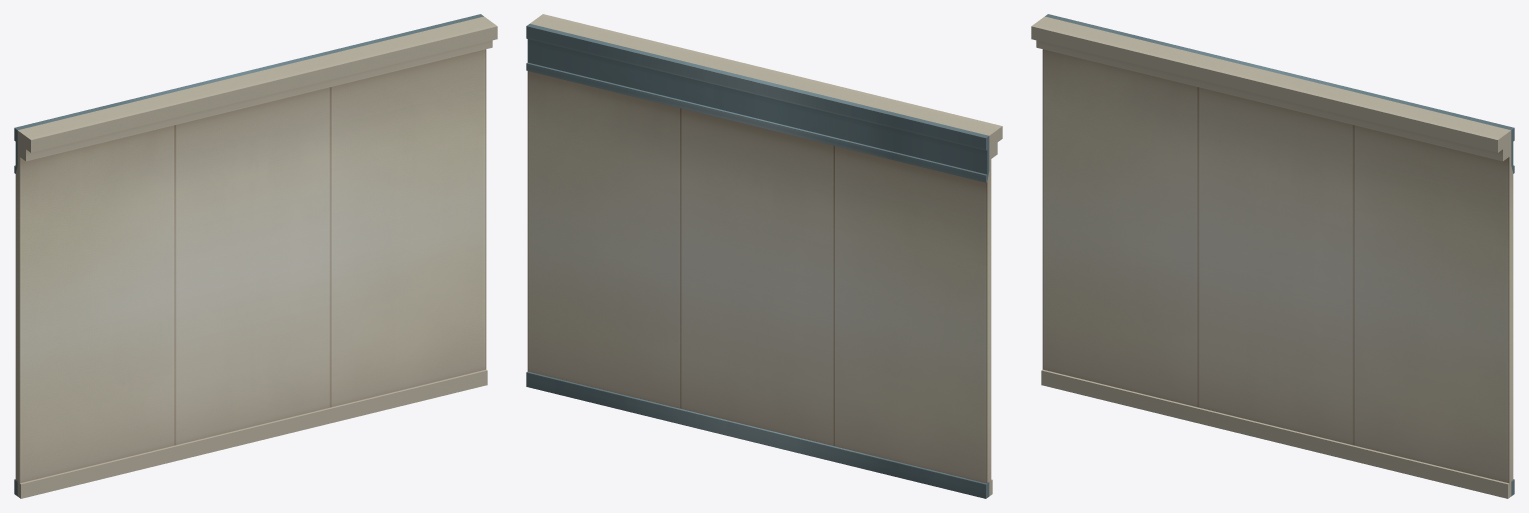
The model's file is SHW_Wall_01_05.fbx.
3 views of the same model, side by side, from view 1: azimuth 30°, elevation 25°; view 2: azimuth 150°, elevation 25°; view 3: azimuth 330°, elevation 25° (orthographic).
Parts seen in each view (by area): view 1: shw_wall_01_05; view 2: shw_wall_01_05; view 3: shw_wall_01_05.
Part boxes in pixels (x1=…): shw_wall_01_05: x1=14, y1=14, x2=497, y2=498; shw_wall_01_05: x1=526, y1=14, x2=1002, y2=498; shw_wall_01_05: x1=1031, y1=14, x2=1514, y2=498.
Size of the model in its own units: 400 by 300 by 25.
